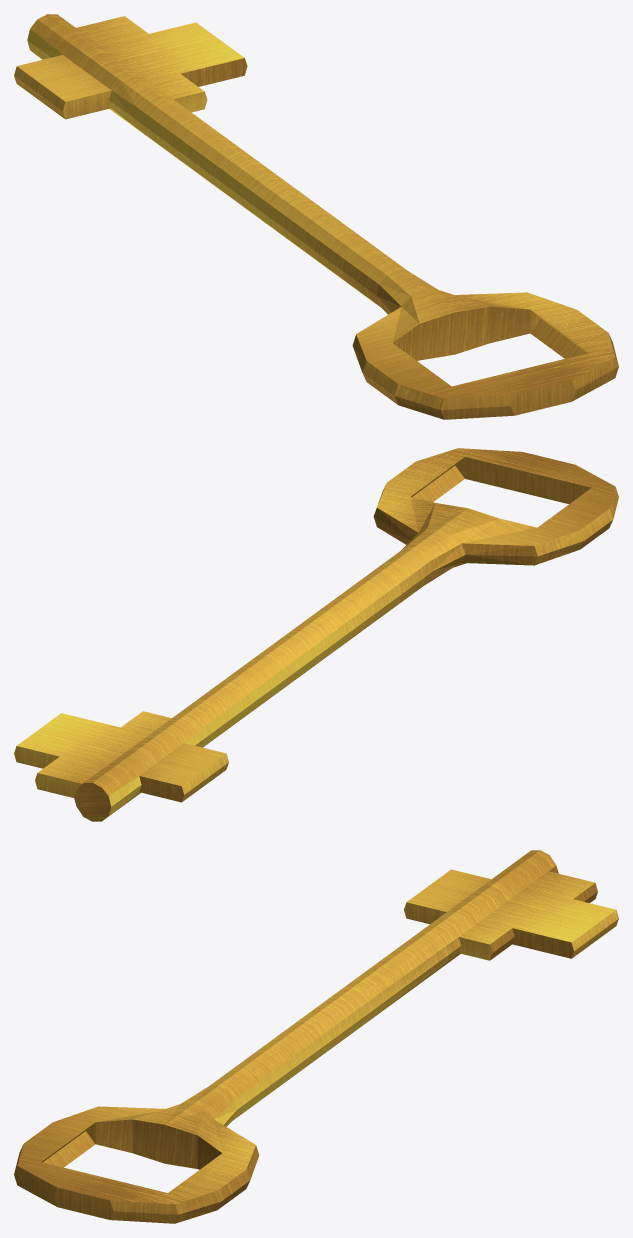
The model's file is Key.fbx.
3 renders of one model, top to bottom at view 1: azimuth 30°, elevation 25°; view 2: azimuth 150°, elevation 25°; view 3: azimuth 330°, elevation 25°, orthographic. The views are drawn at different scales.
Parts seen in each view (by area): view 1: Key; view 2: Key; view 3: Key.
Boxes of the visible parts, x1,y1,x2,y2 form: Key: (14,14,618,419); Key: (14,448,618,821); Key: (14,850,618,1223).
Bounding box in the file's own units: 3.38 × 0.6 × 12.72.
Materials: 1 (1 with a texture image).
